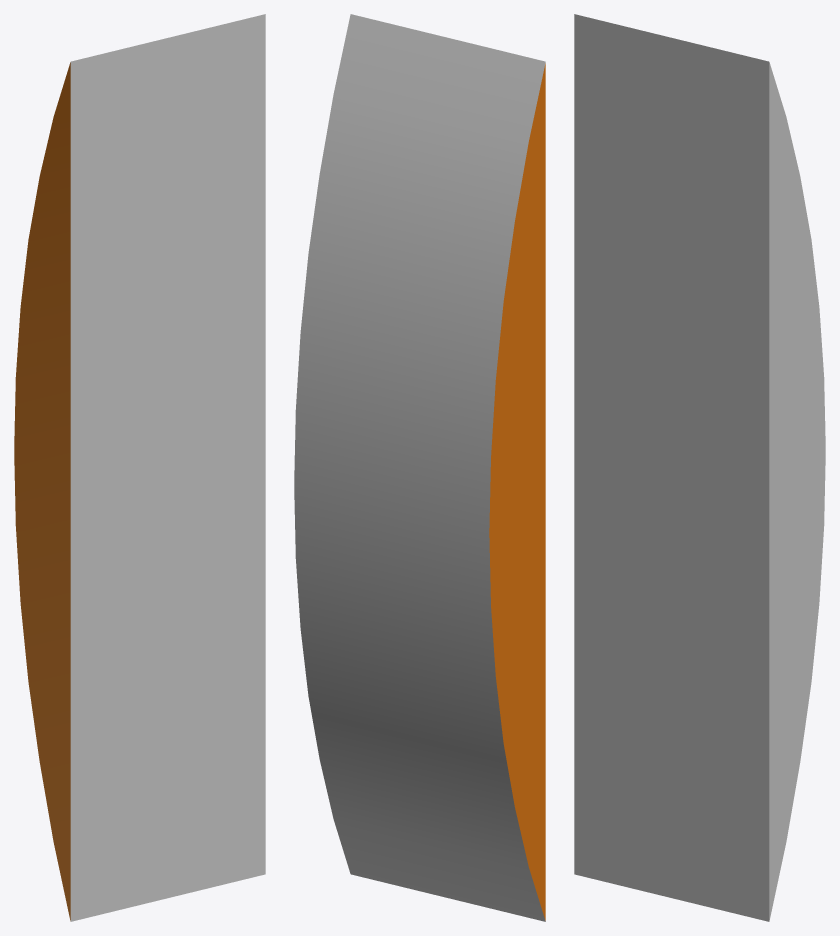
The model's file is original-4.obj.
The picture shows the model from 3 angles, left to right: view 1: azimuth 30°, elevation 25°; view 2: azimuth 150°, elevation 25°; view 3: azimuth 330°, elevation 25°; orthographic projection.
Visible parts, largest first — view 1: mesh6/mesh6-geometry#mesh6-geometry; view 2: mesh6/mesh6-geometry#mesh6-geometry; view 3: mesh6/mesh6-geometry#mesh6-geometry.
Part boxes in pixels (bbox=[...]): mesh6/mesh6-geometry#mesh6-geometry: bbox=[14, 14, 265, 921]; mesh6/mesh6-geometry#mesh6-geometry: bbox=[294, 14, 545, 921]; mesh6/mesh6-geometry#mesh6-geometry: bbox=[574, 14, 825, 921].
Bounding box in the file's own units: 0.00937 × 0.0395 × 0.00469.
